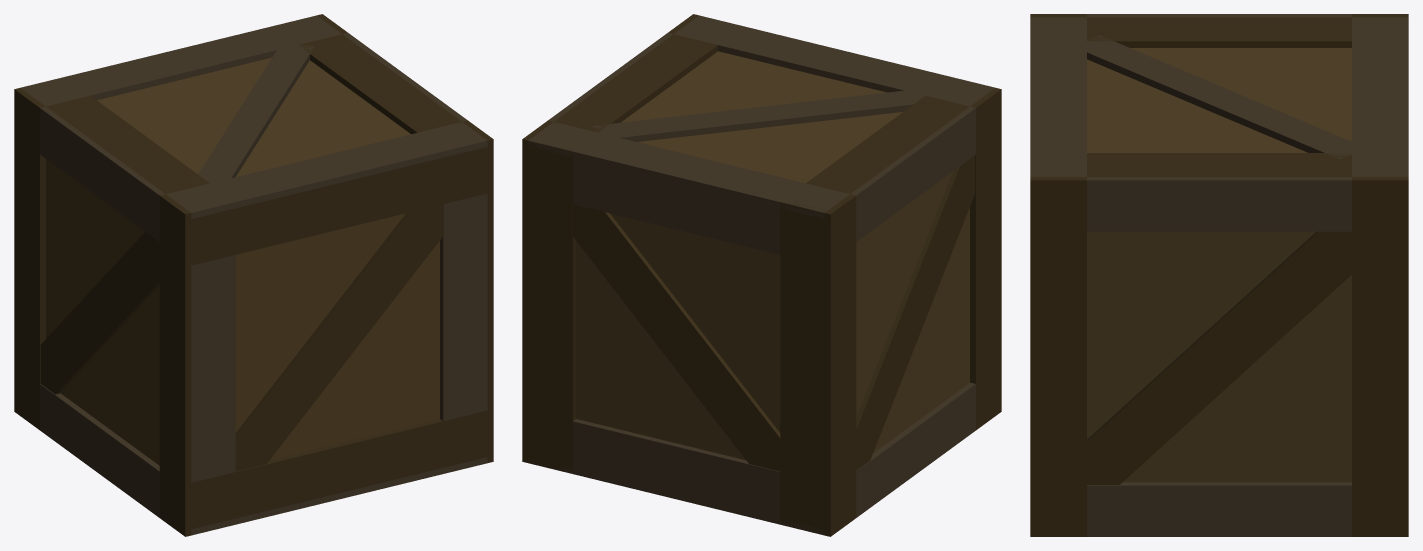
Rendered from Crate.fbx.
3 views of the same model, side by side, from view 1: azimuth 30°, elevation 25°; view 2: azimuth 150°, elevation 25°; view 3: azimuth 270°, elevation 25° (orthographic). The views are drawn at different scales.
Visible parts, largest first — view 1: pCube1, pCube21, pCube20, pCube19, pCube15 (×2), pCube23, pCube22, pCube14, pCube3, pCube4, pCube18, pCube17 (×2) (+5 smaller); view 2: pCube1, pCube20, pCube21, pCube24, pCube14 (×2), pCube22, pCube23, pCube15, pCube4, pCube18, pCube3, pCube17 (×2) (+5 smaller); view 3: pCube1, pCube14, pCube15, pCube13, pCube16 (×2), pCube17, pCube3, pCube4, pCube5, pCube2, pCube6.
Part boxes in pixels (bbox=[...]): pCube1: bbox=[46, 57, 439, 465]; pCube21: bbox=[185, 409, 493, 529]; pCube20: bbox=[182, 145, 493, 266]; pCube19: bbox=[235, 204, 442, 471]; pCube15 (×2): bbox=[159, 120, 493, 536]; pCube23: bbox=[440, 193, 487, 421]; pCube22: bbox=[191, 255, 235, 482]; pCube14: bbox=[14, 88, 45, 430]; pCube3: bbox=[166, 122, 487, 218]; pCube4: bbox=[20, 15, 341, 106]; pCube18: bbox=[40, 232, 159, 394]; pCube17 (×2): bbox=[40, 33, 467, 517]; pCube1: bbox=[576, 51, 969, 460]; pCube20: bbox=[528, 141, 575, 472]; pCube21: bbox=[780, 201, 826, 535]; pCube24: bbox=[573, 204, 780, 471]; pCube14 (×2): bbox=[522, 120, 856, 536]; pCube22: bbox=[572, 419, 780, 518]; pCube23: bbox=[572, 158, 780, 254]; pCube15: bbox=[970, 88, 1001, 430]; pCube4: bbox=[528, 122, 849, 218]; pCube18: bbox=[856, 155, 975, 470]; pCube3: bbox=[674, 15, 995, 106]; pCube17 (×2): bbox=[548, 33, 975, 517]; pCube1: bbox=[1087, 48, 1351, 482]; pCube14: bbox=[1352, 177, 1408, 536]; pCube15: bbox=[1030, 177, 1086, 536]; pCube13: bbox=[1087, 231, 1351, 484]; pCube16 (×2): bbox=[1087, 14, 1351, 536]; pCube17: bbox=[1087, 177, 1351, 231]; pCube3: bbox=[1030, 17, 1086, 176]; pCube4: bbox=[1352, 17, 1408, 176]; pCube5: bbox=[1087, 17, 1351, 47]; pCube2: bbox=[1073, 35, 1365, 159]; pCube6: bbox=[1087, 153, 1351, 176].
Size of the model in its own units: 10.4 by 10.4 by 10.
